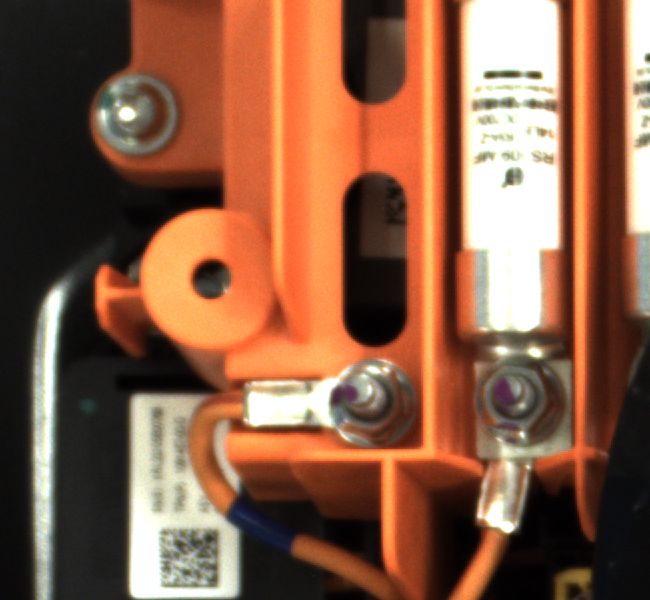screw_m: (93, 69, 194, 160)
screw_s: (460, 360, 577, 457), (316, 354, 419, 453)
